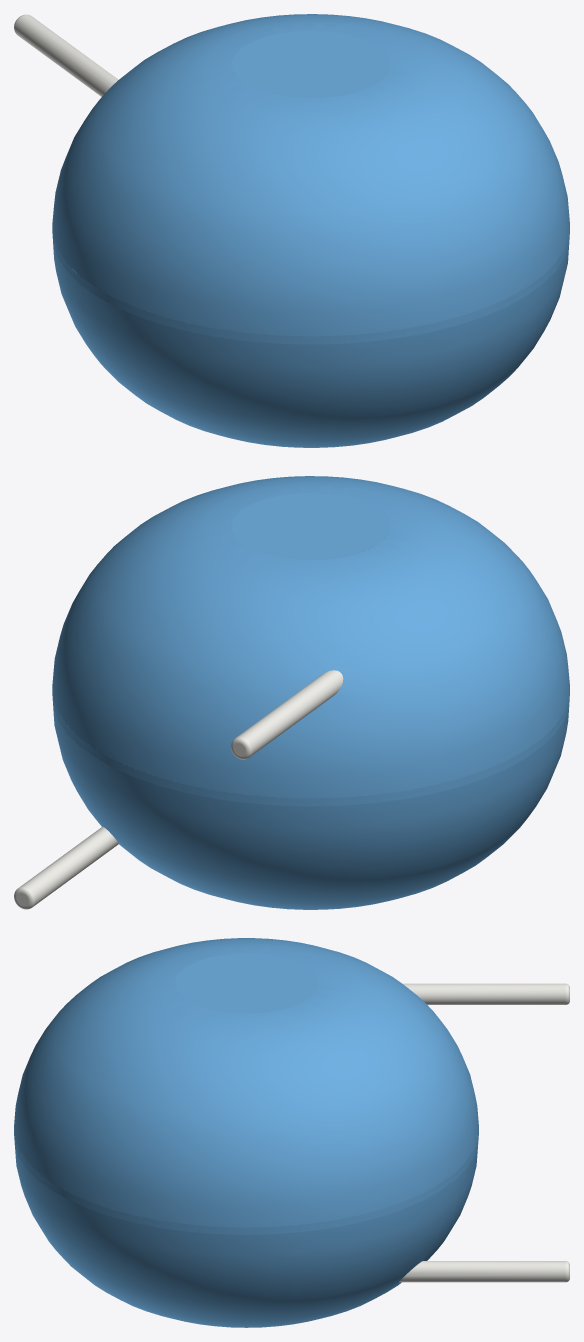
Rendered from RV_Disc_D15.5mm_W11mm_P7.5mm.glb.
The picture shows the model from 3 angles, top to bottom: view 1: azimuth 30°, elevation 25°; view 2: azimuth 150°, elevation 25°; view 3: azimuth 270°, elevation 25°; orthographic projection. The views are drawn at different scales.
Parts seen in each view (by area): view 1: Shape_IndexedFaceSet.001, Shape_IndexedFaceSet.002, Shape_IndexedFaceSet.003, Shape_IndexedFaceSet, Shape_IndexedFaceSet.004; view 2: Shape_IndexedFaceSet.001, Shape_IndexedFaceSet.002, Shape_IndexedFaceSet.003, Shape_IndexedFaceSet, Shape_IndexedFaceSet.004, Shape_IndexedFaceSet.006; view 3: Shape_IndexedFaceSet.001, Shape_IndexedFaceSet.002, Shape_IndexedFaceSet.003, Shape_IndexedFaceSet, Shape_IndexedFaceSet.006, Shape_IndexedFaceSet.004.
Boxes of the visible parts, x1=… form: Shape_IndexedFaceSet.001: x1=52, y1=14, x2=569, y2=336; Shape_IndexedFaceSet.002: x1=52, y1=238, x2=569, y2=447; Shape_IndexedFaceSet.003: x1=231, y1=31, x2=390, y2=97; Shape_IndexedFaceSet: x1=52, y1=225, x2=569, y2=344; Shape_IndexedFaceSet.004: x1=14, y1=15, x2=118, y2=96; Shape_IndexedFaceSet.001: x1=52, y1=476, x2=569, y2=798; Shape_IndexedFaceSet.002: x1=52, y1=700, x2=569, y2=909; Shape_IndexedFaceSet.003: x1=232, y1=493, x2=390, y2=559; Shape_IndexedFaceSet: x1=52, y1=687, x2=569, y2=806; Shape_IndexedFaceSet.004: x1=236, y1=670, x2=343, y2=756; Shape_IndexedFaceSet.006: x1=19, y1=826, x2=118, y2=906; Shape_IndexedFaceSet.001: x1=14, y1=938, x2=478, y2=1227; Shape_IndexedFaceSet.002: x1=15, y1=1146, x2=477, y2=1327; Shape_IndexedFaceSet.003: x1=175, y1=953, x2=317, y2=1013; Shape_IndexedFaceSet: x1=14, y1=1128, x2=478, y2=1234; Shape_IndexedFaceSet.006: x1=399, y1=1261, x2=565, y2=1282; Shape_IndexedFaceSet.004: x1=403, y1=983, x2=565, y2=1004.
Bounding box in the file's own units: 6.1 × 4.33 × 7.29.
